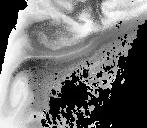CE: (9, 75, 28, 107)
